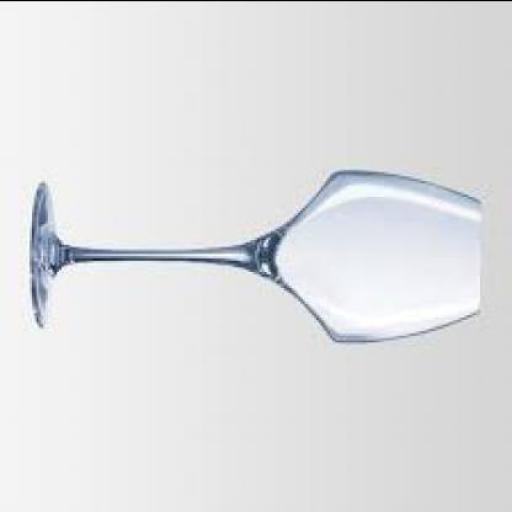glass: (34, 171, 485, 346)
